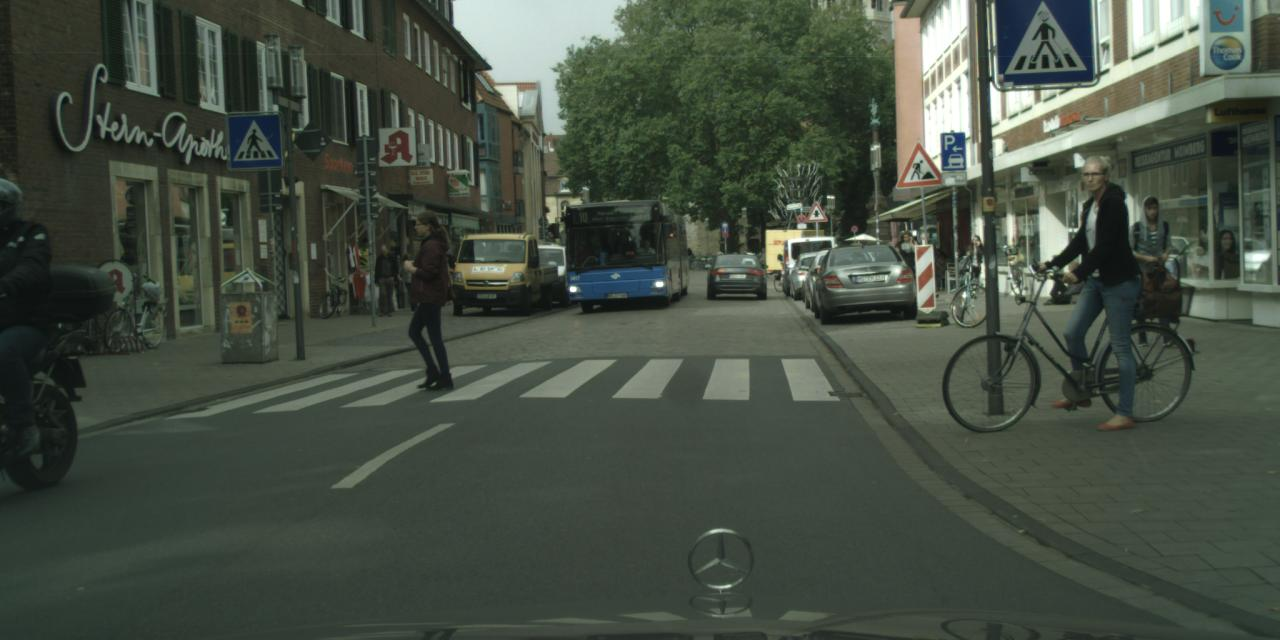ped: (1045, 155, 1151, 413), (0, 178, 56, 452), (396, 212, 466, 385), (1122, 194, 1183, 346), (893, 230, 921, 298), (371, 244, 398, 314), (914, 232, 940, 298), (963, 233, 987, 291), (399, 253, 422, 310)
